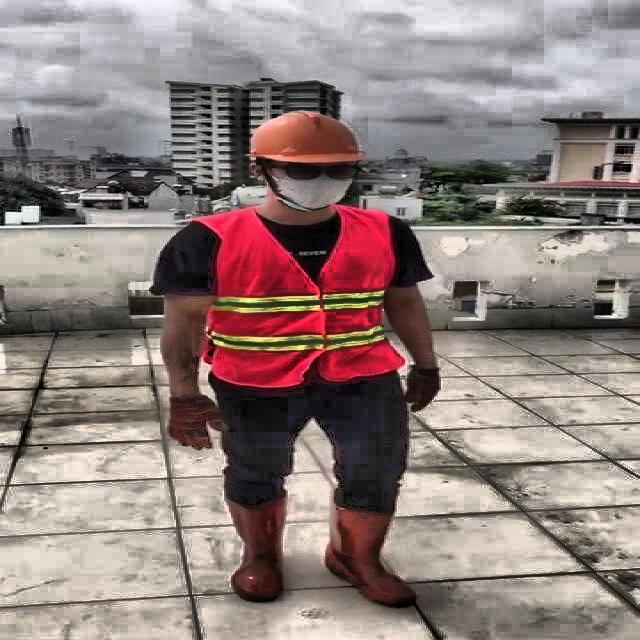safety_helmet: (236, 106, 368, 166)
safety_jacket: (190, 208, 397, 381)
